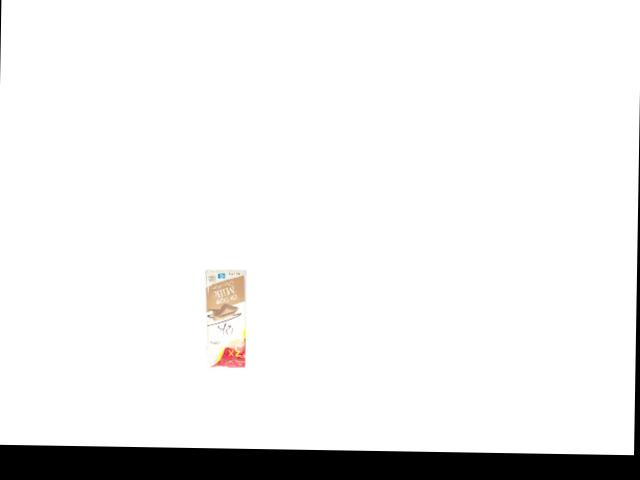chocolate: (202, 271, 250, 370)
